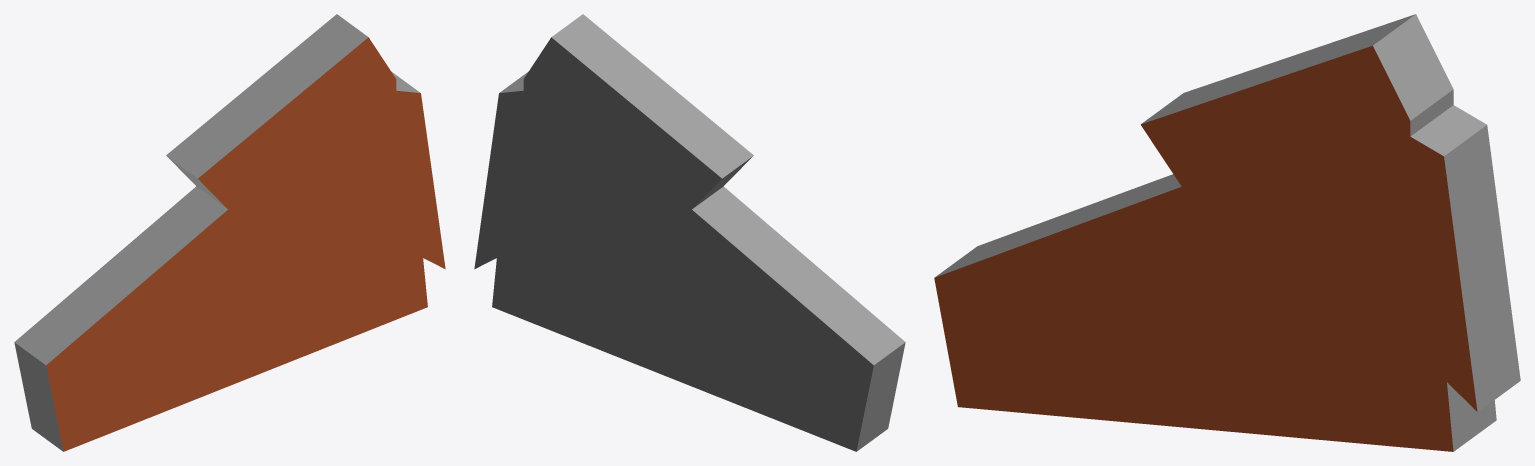
Rendered from construction_1886_assumed_A_Casa_h6m.obj.
3 views of the same model, side by side, from view 1: azimuth 30°, elevation 25°; view 2: azimuth 150°, elevation 25°; view 3: azimuth 330°, elevation 25° (orthographic). The views are drawn at different scales.
Parts seen in each view (by area): view 1: construction_1886_assumed_A_Casa; view 2: construction_1886_assumed_A_Casa; view 3: construction_1886_assumed_A_Casa.
Part boxes in pixels (<box>): construction_1886_assumed_A_Casa: <box>14,14,445,451</box>; construction_1886_assumed_A_Casa: <box>474,14,905,451</box>; construction_1886_assumed_A_Casa: <box>934,14,1520,451</box>.
Size of the model in its own units: 43.57 by 35.45 by 6.
